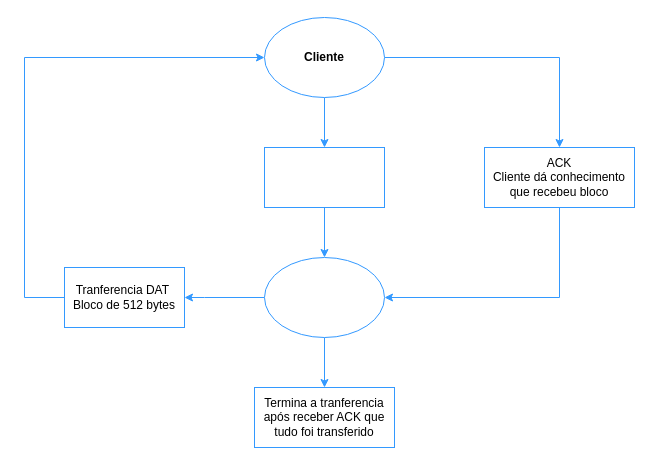
The diagram is 652 pixels wide and 465 high, and some of its shapes have lost their labels. The shapes that lost their labels are listed below. From the top down, each one's centre as x and y in pixels, then its label:
the point at 324,177: Pedido de Leitura Opcao 1 (RRQ)
the point at 324,297: Servidor
